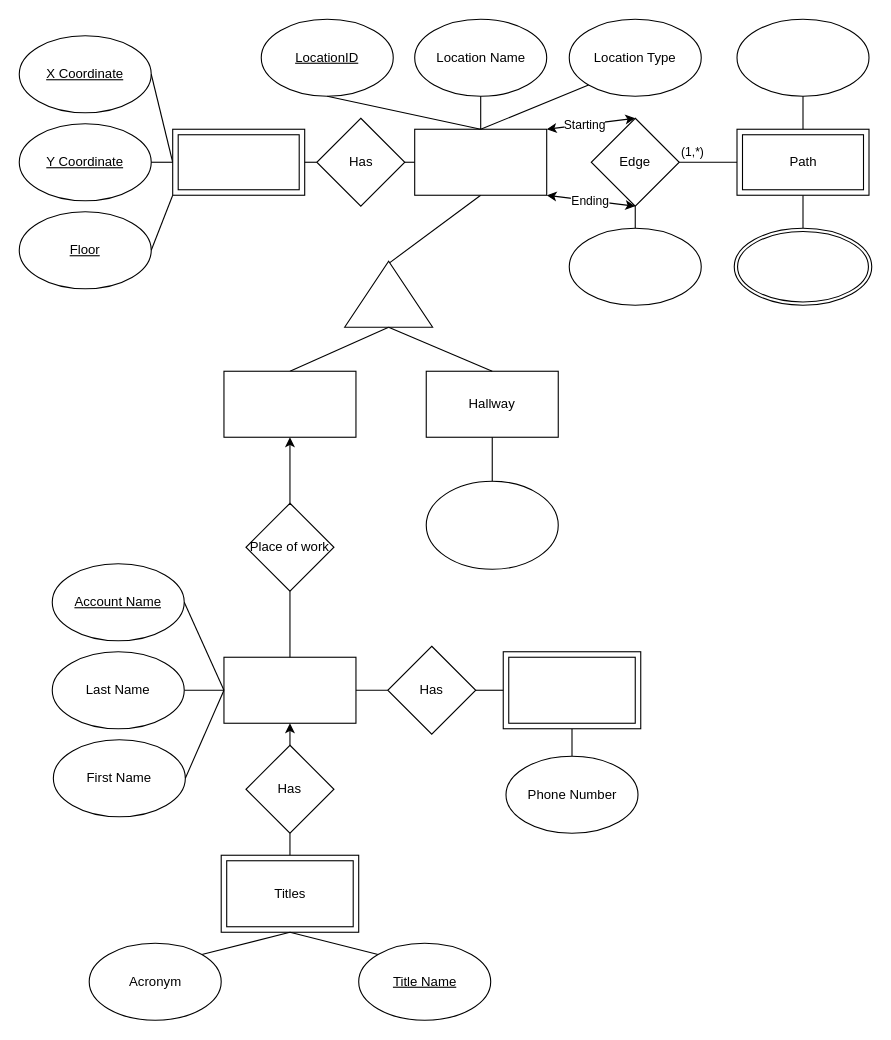
Image size: 891x1040. Some labels were removed from this diagram. The centre of each missing label's shape, as x and y in pixels:
"CompSci Staff Employee" goes at (x=289, y=689).
"Coordinates" goes at (x=238, y=161).
"Description" goes at (x=491, y=524).
"EdgeID" goes at (x=634, y=266).
"EdgeID's" goes at (x=802, y=266).
"ISA Partial Disjoint" goes at (x=388, y=293).
"Location" goes at (x=480, y=161).
"Office" goes at (x=289, y=403).
"PathID" goes at (x=802, y=57).
"Phone Extensions" goes at (x=571, y=690).
